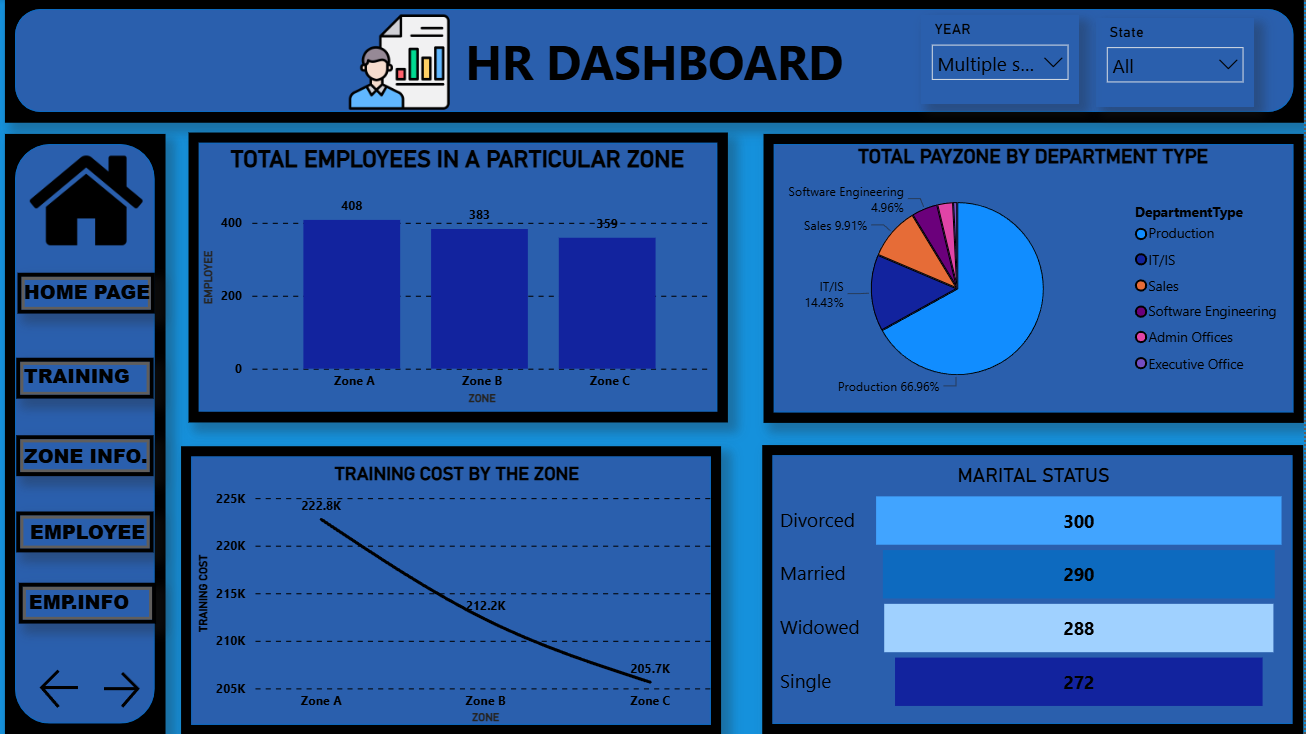

What the dashboard file says about the page in this screenshot:
{"tool":"powerbi","page":{"name":"ZONE INFO.","canvas":[1280,720],"ordinal":2},"visuals":[{"type":"shape","box":[9.3,0,1270.7,120.8],"z":0},{"type":"image","box":[315.8,8.5,160,104.8],"z":1000},{"type":"shape","box":[9.8,132.1,156.5,587],"z":2000},{"type":"shape","box":[190,131.4,527.1,282.9],"z":3000},{"type":"shape","box":[752,132.1,528.3,282.5],"z":4000},{"type":"shape","box":[751.4,437.1,528.6,282.9],"z":5000},{"type":"shape","box":[182.2,437.8,528.3,282.5],"z":6000},{"type":"lineChart","title":"TRAINING COST BY THE ZONE","fields":{"Category":["HR DATA.PayZone"],"Y":["Sum(HR DATA.Training Cost)"]},"box":[193.5,454.2,517.3,260.7],"z":7000},{"type":"pieChart","title":"TOTAL PAYZONE  BY DEPARTMENT TYPE","fields":{"Category":["HR DATA.DepartmentType"],"Y":["CountNonNull(HR DATA.PayZone)"]},"box":[763,143.1,505,259.2],"z":8000},{"type":"lineStackedColumnComboChart","title":"TOTAL EMPLOYEES IN A PARTICULAR ZONE","fields":{"Category":["HR DATA.PayZone"],"Y":["Count(HR DATA.Employee ID)"]},"box":[198.6,142.9,508.6,258.6],"z":9000},{"type":"funnel","title":"MARITAL STATUS","fields":{"Category":["HR DATA.MaritalDesc"],"Y":["CountNonNull(HR DATA.PayZone)"]},"box":[762.9,454.3,505.7,247.1],"z":10000},{"type":"image","box":[21.4,141.4,134.3,110],"z":11000},{"type":"actionButton","box":[100,652.9,67.1,45.7],"z":12000},{"type":"actionButton","box":[38.6,650,50,48.6],"z":13000},{"type":"actionButton","title":"TRAINING","box":[20.8,351,134.5,40.4],"z":14000},{"type":"actionButton","title":"TRAINING","box":[22,267.8,134.5,40.4],"z":15000},{"type":"actionButton","title":"TRAINING","box":[20.8,426.8,134.5,40.4],"z":16000},{"type":"actionButton","title":"TRAINING","box":[20.8,501.4,134.5,40.4],"z":17000},{"type":"actionButton","title":"TRAINING","box":[23.2,571.1,134.5,40.4],"z":18000},{"type":"textbox","title":"HOME PAGE","box":[23.2,272.7,134.5,28.1],"z":19000},{"type":"textbox","title":"TRAINING","box":[23.2,354.6,113.7,30.6],"z":20000},{"type":"textbox","title":"ZONE INFO.","box":[23.2,432.9,134.5,28.1],"z":21000},{"type":"textbox","title":"EMPLOYEE","box":[29.3,507.5,124.7,28.1],"z":22000},{"type":"textbox","title":"EMP.INFO","box":[28.1,576,121.1,31.8],"z":23000},{"type":"slicer","fields":{"Values":["HR DATA.TRAINING YEAR"]},"box":[905.7,15.7,154.3,87.1],"z":24000},{"type":"slicer","fields":{"Values":["HR DATA.State"]},"box":[1077.1,18.6,154.3,87.1],"z":25000}]}

Visuals, with their boxes in screenshot pixels (x1, y1, x2, y2), scaled from the page's 1280x720 canvas onto the 1306x734 screenshot:
shape: x1=9, y1=0, x2=1305, y2=123
image: x1=322, y1=9, x2=485, y2=116
shape: x1=10, y1=135, x2=170, y2=733
shape: x1=194, y1=134, x2=732, y2=422
shape: x1=767, y1=135, x2=1305, y2=423
shape: x1=767, y1=446, x2=1305, y2=733
shape: x1=186, y1=446, x2=725, y2=733
"TRAINING COST BY THE ZONE" lineChart: x1=197, y1=463, x2=725, y2=729
"TOTAL PAYZONE  BY DEPARTMENT TYPE" pieChart: x1=778, y1=146, x2=1294, y2=410
"TOTAL EMPLOYEES IN A PARTICULAR ZONE" lineStackedColumnComboChart: x1=203, y1=146, x2=722, y2=409
"MARITAL STATUS" funnel: x1=778, y1=463, x2=1294, y2=715
image: x1=22, y1=144, x2=159, y2=256
actionButton: x1=102, y1=666, x2=170, y2=712
actionButton: x1=39, y1=663, x2=90, y2=712
"TRAINING" actionButton: x1=21, y1=358, x2=158, y2=399
"TRAINING" actionButton: x1=22, y1=273, x2=160, y2=314
"TRAINING" actionButton: x1=21, y1=435, x2=158, y2=476
"TRAINING" actionButton: x1=21, y1=511, x2=158, y2=552
"TRAINING" actionButton: x1=24, y1=582, x2=161, y2=623
"HOME PAGE" textbox: x1=24, y1=278, x2=161, y2=307
"TRAINING" textbox: x1=24, y1=361, x2=140, y2=393
"ZONE INFO." textbox: x1=24, y1=441, x2=161, y2=470
"EMPLOYEE" textbox: x1=30, y1=517, x2=157, y2=546
"EMP.INFO" textbox: x1=29, y1=587, x2=152, y2=620
slicer - HR DATA.TRAINING YEAR: x1=924, y1=16, x2=1082, y2=105
slicer - HR DATA.State: x1=1099, y1=19, x2=1256, y2=108
